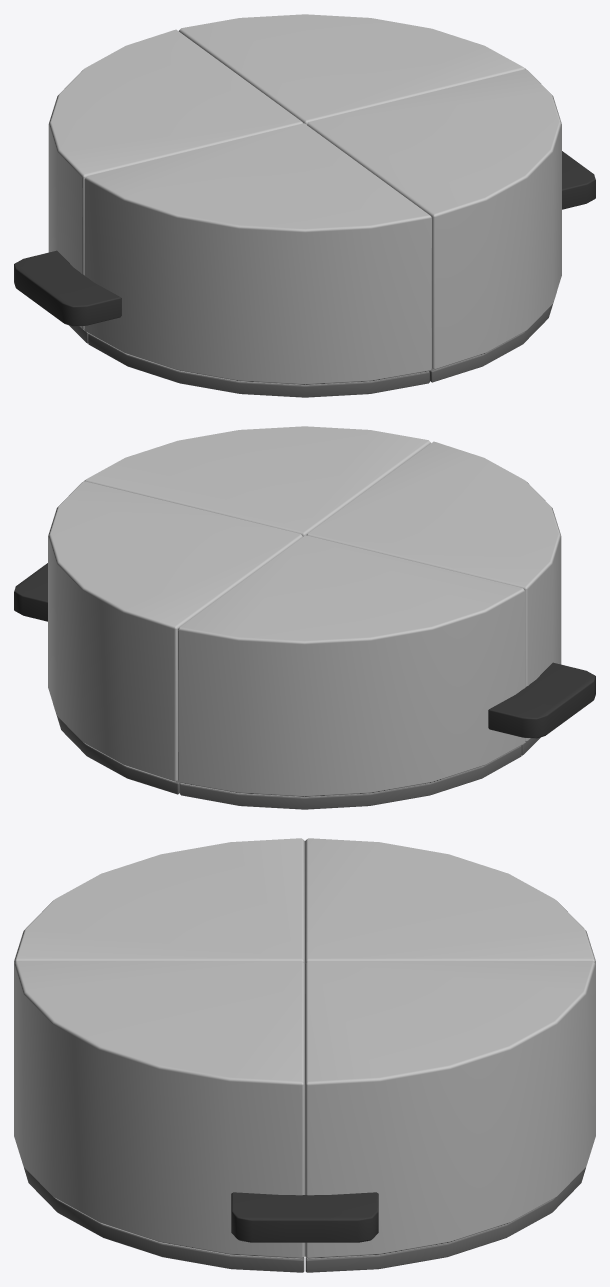
Rendered from Level_Xoong.fbx.
3 views of the same model, one above another, from view 1: azimuth 30°, elevation 25°; view 2: azimuth 150°, elevation 25°; view 3: azimuth 270°, elevation 25° (orthographic). The views are drawn at different scales.
Parts seen in each view (by area): view 1: Xoong_4, Xoong_31, Xoong_3, Xoong_30, Xoong_1, Xoong_7, Xoong_29, Xoong_34; view 2: Xoong_3, Xoong_30, Xoong_4, Xoong_31, Xoong_1, Xoong_6, Xoong_28, Xoong_34; view 3: Xoong_30, Xoong_31, Xoong_3, Xoong_4, Xoong_34, Xoong_28, Xoong_29.
Part boxes in pixels (<box>): Xoong_4: <box>84,123,432,385</box>; Xoong_31: <box>307,69,561,369</box>; Xoong_3: <box>48,29,303,330</box>; Xoong_30: <box>179,14,525,124</box>; Xoong_1: <box>14,250,121,326</box>; Xoong_7: <box>88,334,429,397</box>; Xoong_29: <box>429,304,552,382</box>; Xoong_34: <box>562,151,595,209</box>; Xoong_3: <box>177,535,525,797</box>; Xoong_30: <box>48,481,302,781</box>; Xoong_4: <box>306,441,561,742</box>; Xoong_31: <box>84,426,430,536</box>; Xoong_1: <box>488,662,595,738</box>; Xoong_6: <box>180,746,521,809</box>; Xoong_28: <box>57,716,180,794</box>; Xoong_34: <box>14,563,47,621</box>; Xoong_30: <box>305,961,595,1258</box>; Xoong_31: <box>14,961,304,1258</box>; Xoong_3: <box>305,838,595,963</box>; Xoong_4: <box>14,838,304,963</box>; Xoong_34: <box>231,1192,378,1242</box>; Xoong_28: <box>305,1167,585,1272</box>; Xoong_29: <box>24,1167,304,1272</box>.
Size of the model in its own units: 0.0529 by 0.0226 by 0.0441.
